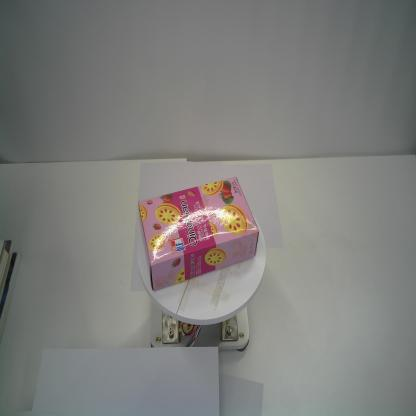Dessert: (136, 174, 262, 294)
